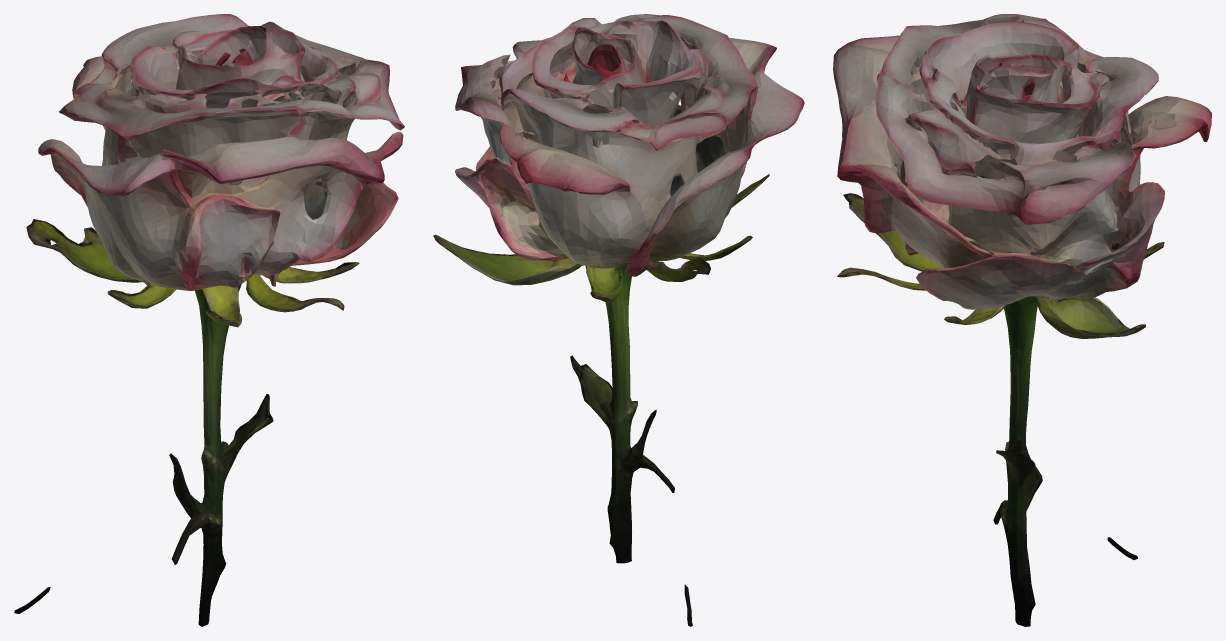
3 renders of one model, left to right at view 1: azimuth 30°, elevation 25°; view 2: azimuth 150°, elevation 25°; view 3: azimuth 270°, elevation 25°, orthographic. The views are drawn at different scales.
Visible parts, largest first — view 1: world; view 2: world; view 3: world.
Boxes of the visible parts, x1,y1,x2,y2 form: world: [14, 14, 404, 626]; world: [433, 14, 804, 626]; world: [833, 14, 1211, 626].
Size of the model in its own units: 0.6028 by 1 by 0.585.
1 material, 1 textured.
